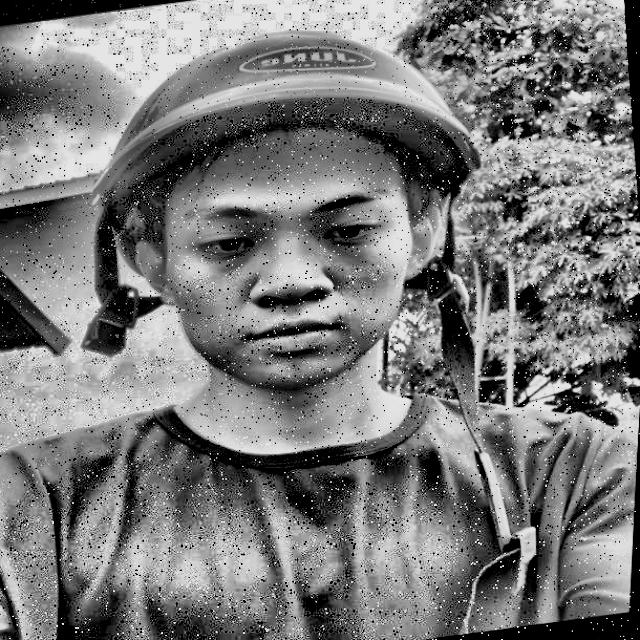Helmet: (42, 0, 583, 449)
